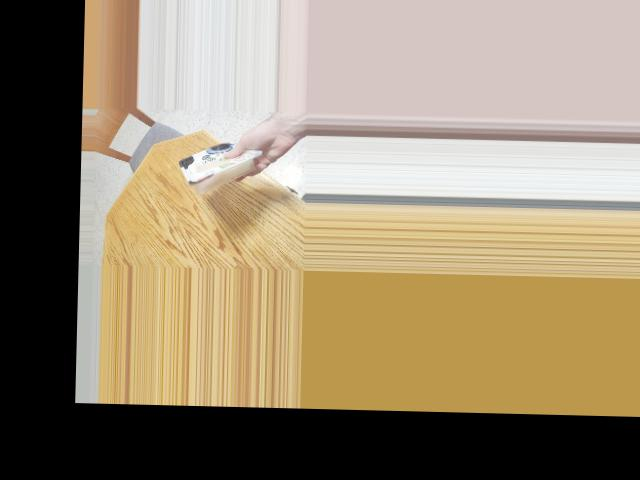cheese: (182, 128, 250, 194)
